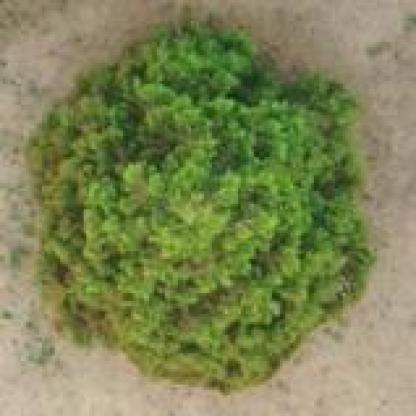Coniferous Tree: (24, 13, 376, 393)
